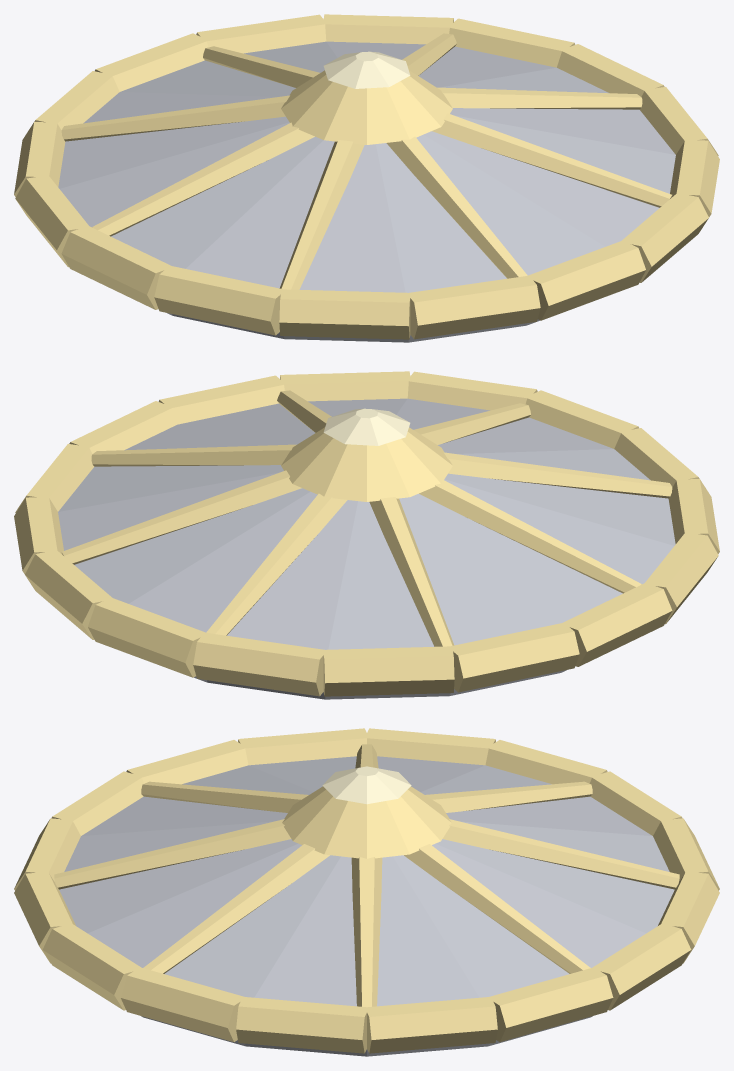
The model's file is Cleric_RelicShield.fbx.
3 renders of one model, top to bottom at view 1: azimuth 30°, elevation 25°; view 2: azimuth 150°, elevation 25°; view 3: azimuth 270°, elevation 25°, orthographic.
Parts seen in each view (by area): view 1: ClericShield_SunburstGold, ClericShield_Body, ClericShield_HolyCore; view 2: ClericShield_SunburstGold, ClericShield_Body, ClericShield_HolyCore; view 3: ClericShield_SunburstGold, ClericShield_Body, ClericShield_HolyCore.
Boxes of the visible parts, x1=… form: ClericShield_SunburstGold: x1=14, y1=14, x2=719, y2=339; ClericShield_Body: x1=58, y1=41, x2=675, y2=342; ClericShield_HolyCore: x1=323, y1=51, x2=410, y2=88; ClericShield_SunburstGold: x1=14, y1=371, x2=719, y2=696; ClericShield_Body: x1=58, y1=398, x2=675, y2=699; ClericShield_HolyCore: x1=323, y1=408, x2=410, y2=445; ClericShield_SunburstGold: x1=14, y1=728, x2=719, y2=1053; ClericShield_Body: x1=59, y1=756, x2=674, y2=1056; ClericShield_HolyCore: x1=322, y1=766, x2=411, y2=804.
Bounding box in the file's own units: 0.7271 × 0.202 × 0.7271.
